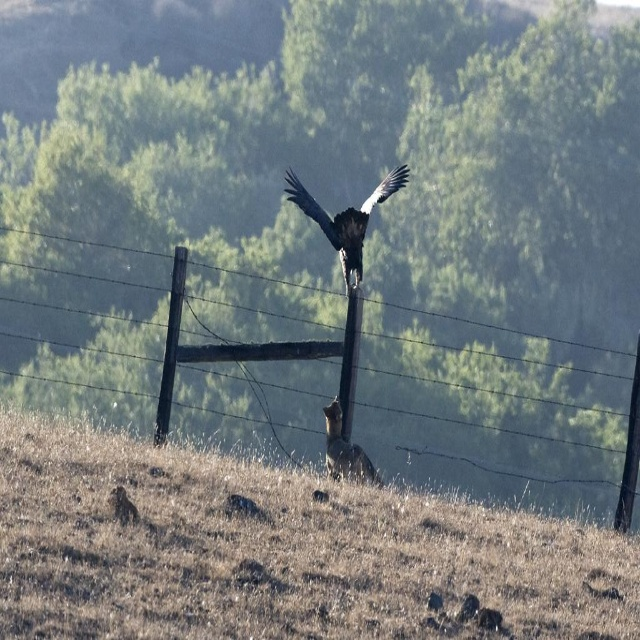Eagle: (283, 163, 415, 291)
